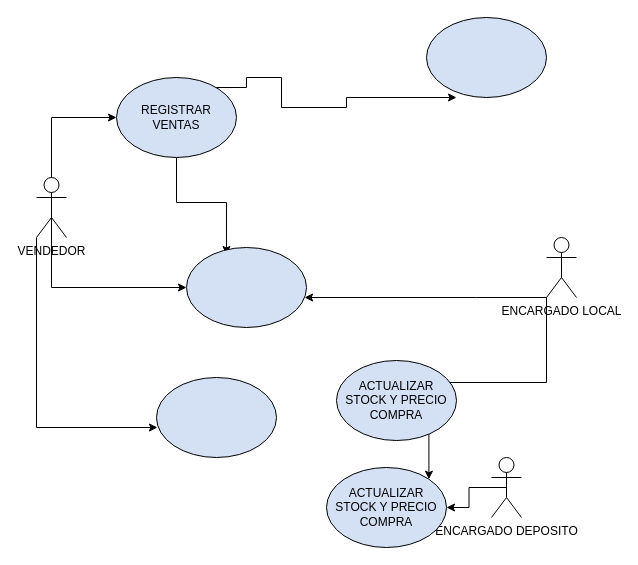
The diagram is 638 pixels wide and 565 high, and some of its shapes have lost their labels. The shapes that lost their labels are listed below. From the top down, each one's centre as x and y in pixels, then its label:
the point at 486,57: FINALIZAR VENTAS
the point at 246,287: MANTENER CLIENTE
the point at 216,417: CONSULTAR PRODUCTO
